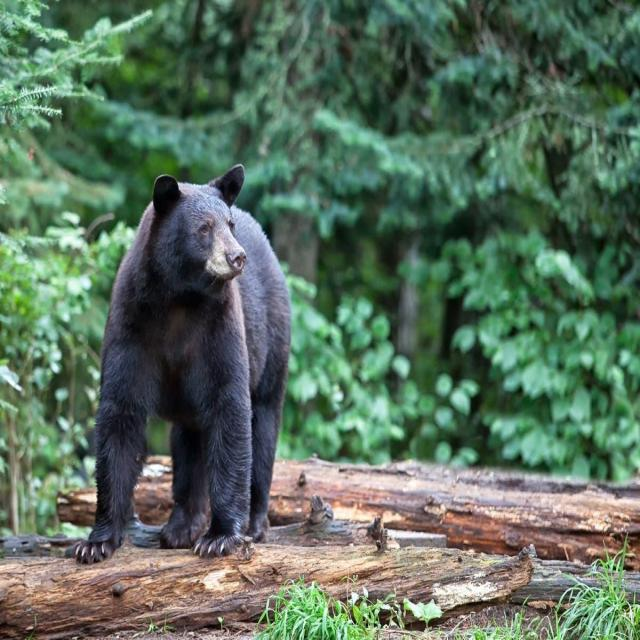Bear: (73, 167, 293, 567)
